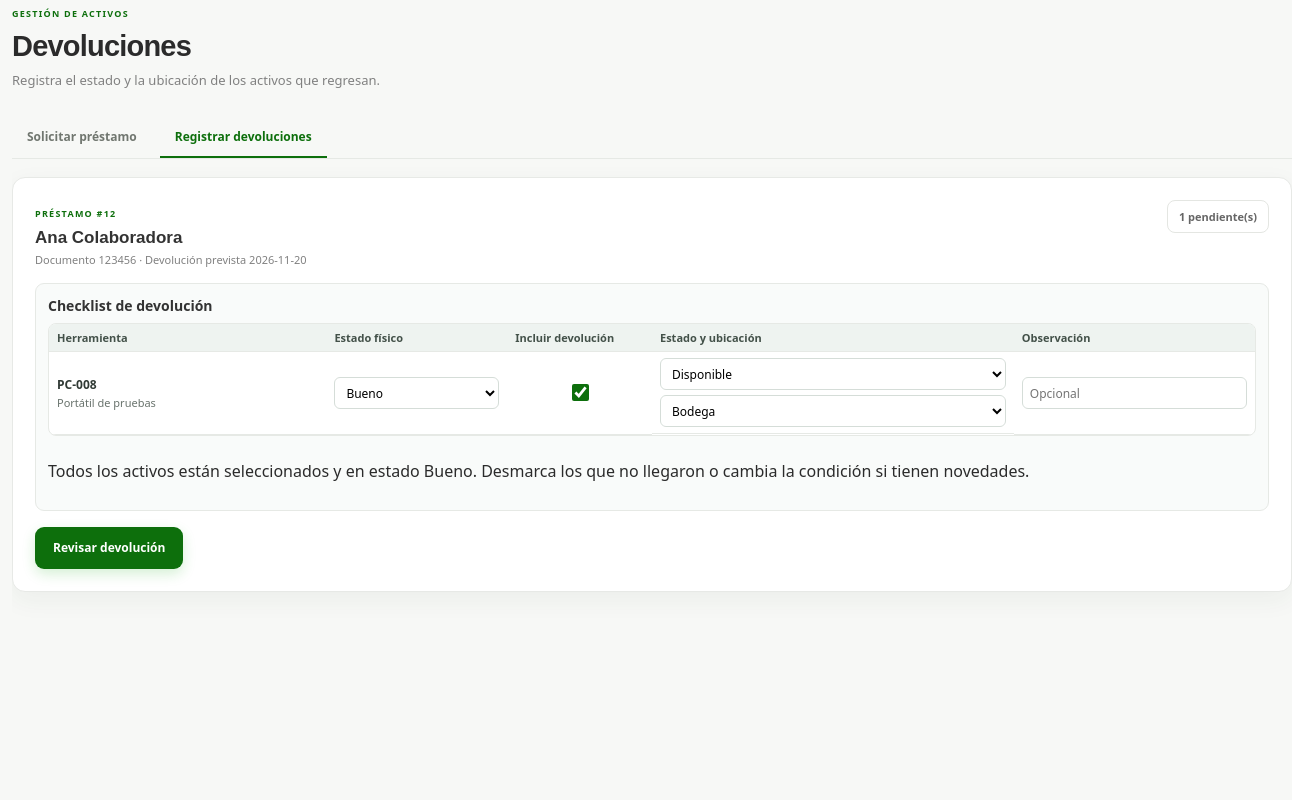
it: Préstamos y devoluciones › descarga el PDF actualizado al devolver el último activo
Expected: the checkbox named "Incluir devolución PC-008" is checked, x1=572 y1=384 x2=589 y2=401
Click the button "Revisar devolución".
click(109, 548)  # box x1=35 y1=527 x2=183 y2=569
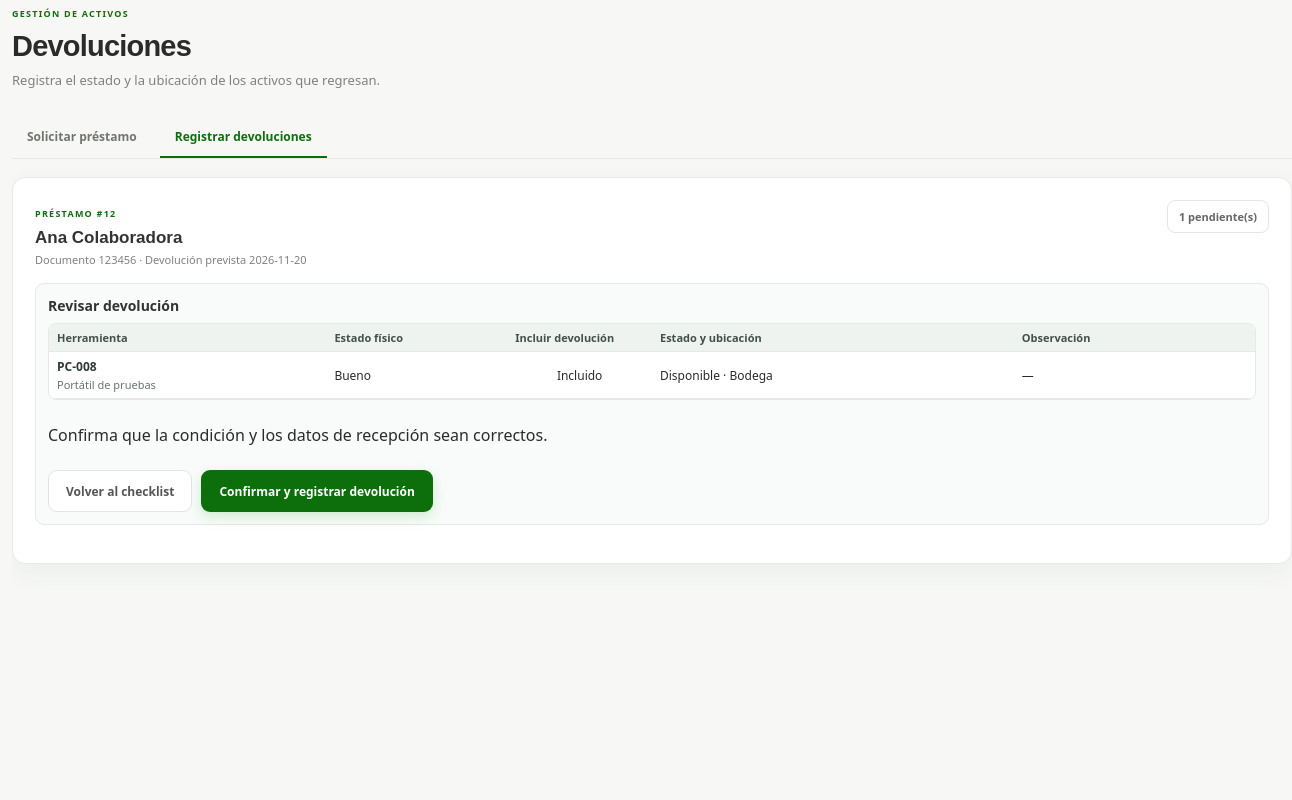
Click the button "Confirmar y registrar devolución".
click(317, 491)  # box x1=201 y1=470 x2=433 y2=512
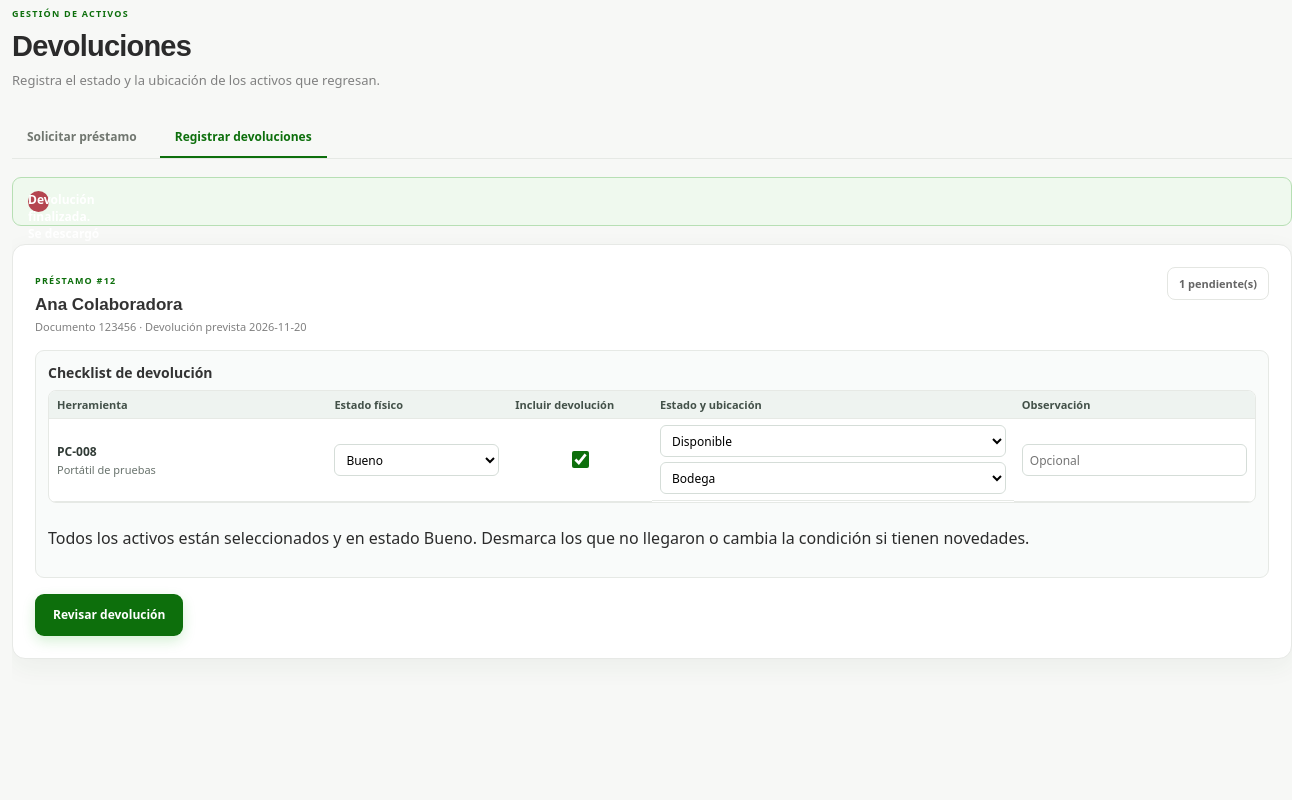
Expected: the message shows "Se descargó el PDF actualizado.", x1=28 y1=191 x2=101 y2=276
